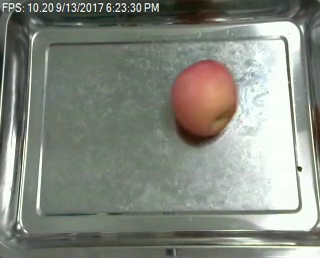Apple: (166, 58, 242, 137)
